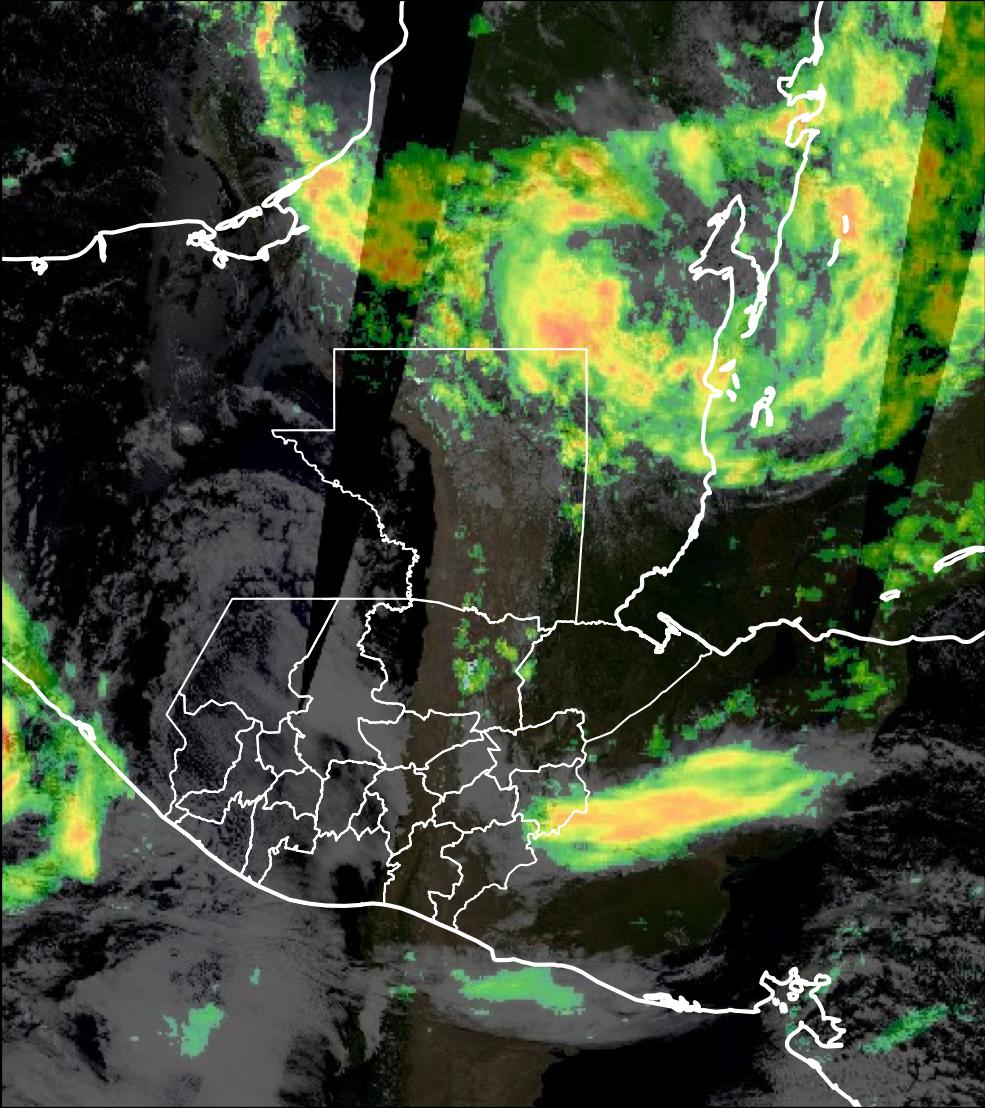precipitacion: (539, 747, 798, 886), (522, 263, 640, 370), (1, 705, 17, 816)
